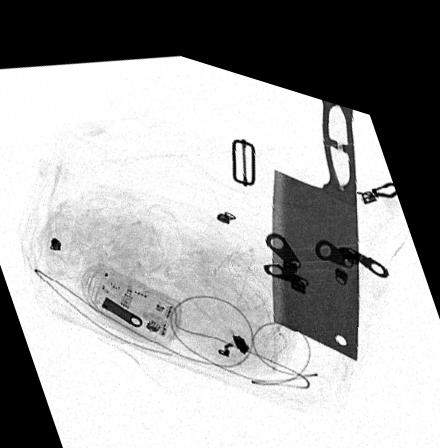Knife: (271, 80, 360, 340)
